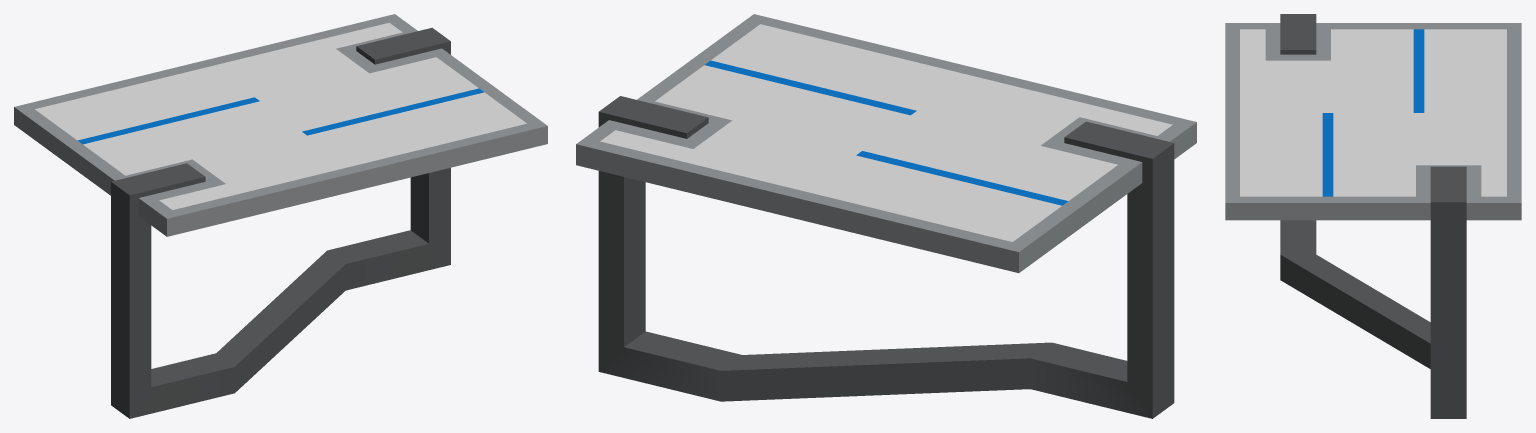
The model's file is Desk_020.glb.
3 views of the same model, side by side, from view 1: azimuth 30°, elevation 25°; view 2: azimuth 150°, elevation 25°; view 3: azimuth 270°, elevation 25° (orthographic). The views are drawn at different scales.
Visible parts, largest first — view 1: Desk_020; view 2: Desk_020; view 3: Desk_020.
Part boxes in pixels (<box>): Desk_020: <box>14,14,547,418</box>; Desk_020: <box>576,14,1196,418</box>; Desk_020: <box>1225,14,1521,418</box>.
Bounding box in the file's own units: 1.58 × 0.8484 × 1.05.
Materials: 2 (2 with a texture image).
